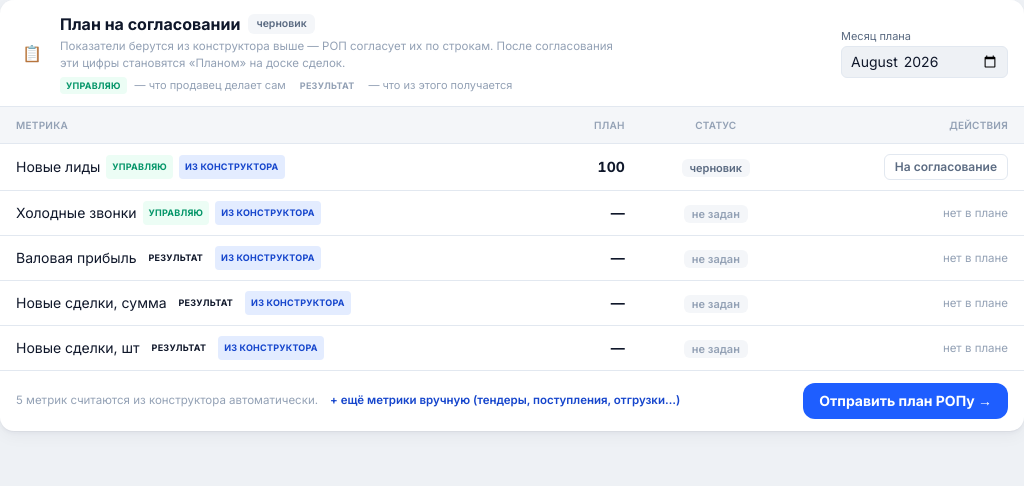
Test case: DealPlanEditor › продавец: построчная кнопка «На согласование» зовёт submitPlan для этой строки
Click the button "На согласование".
click(946, 167)  # box x1=884 y1=154 x2=1008 y2=180
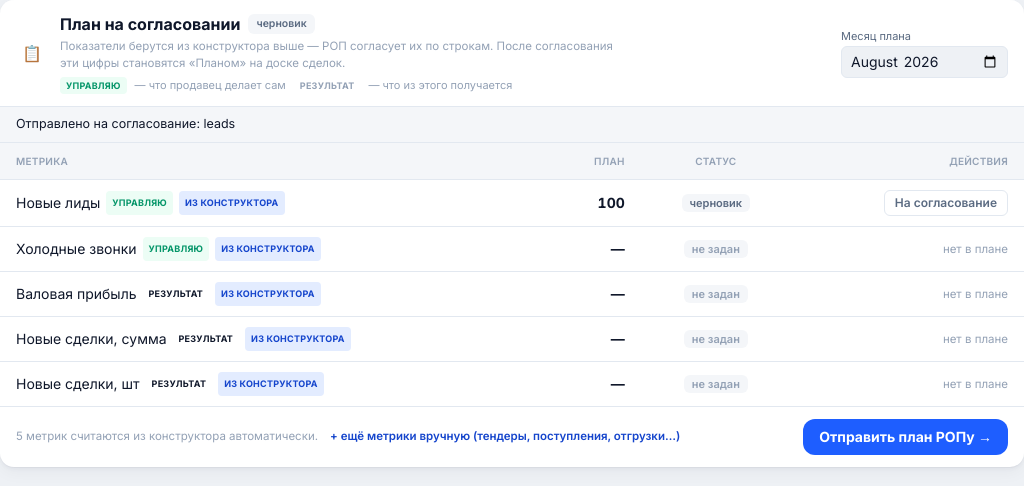
Check: the text "Отправлено на согласование: leads" is shown, box x1=0 y1=107 x2=1023 y2=143
